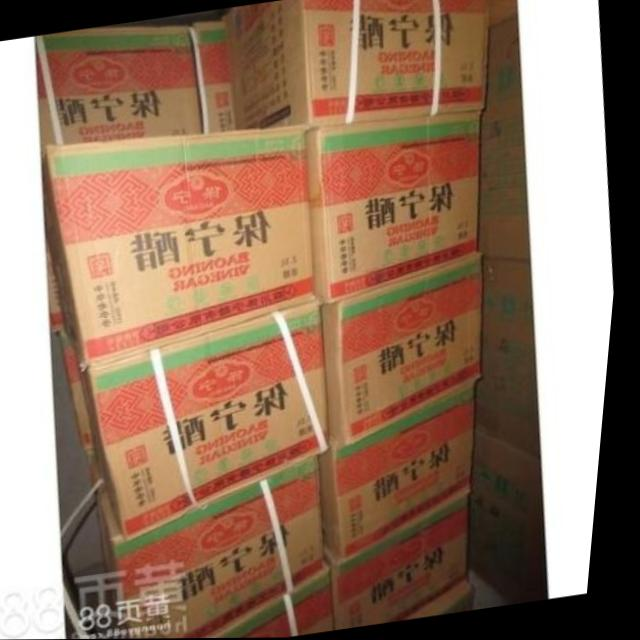box: (44, 126, 325, 367), (81, 303, 339, 541), (104, 456, 338, 639), (225, 0, 490, 130), (310, 112, 485, 304), (325, 251, 491, 446), (325, 380, 482, 558), (35, 23, 204, 150), (335, 489, 479, 631), (478, 431, 559, 605), (482, 256, 550, 462), (483, 14, 537, 262), (215, 567, 347, 638), (189, 18, 235, 134), (415, 579, 486, 621)
